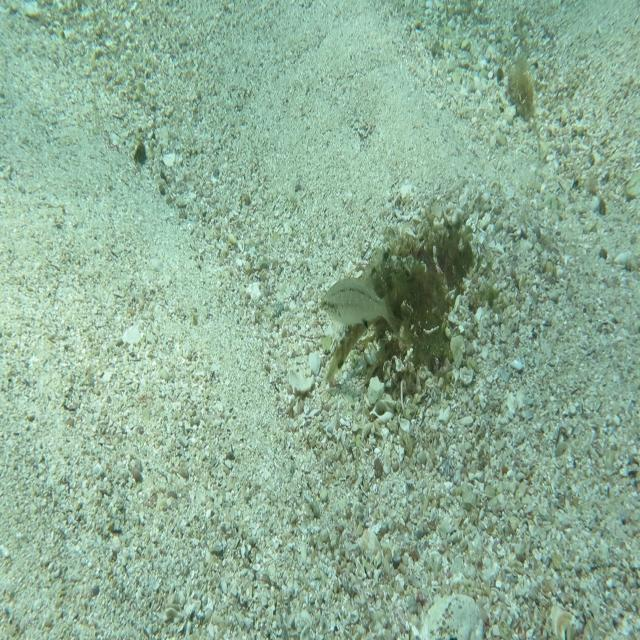BK_SW: (322, 244, 428, 386)
core_nest: (414, 240, 466, 276)
female: (320, 273, 406, 340)
nest: (359, 207, 479, 405)
